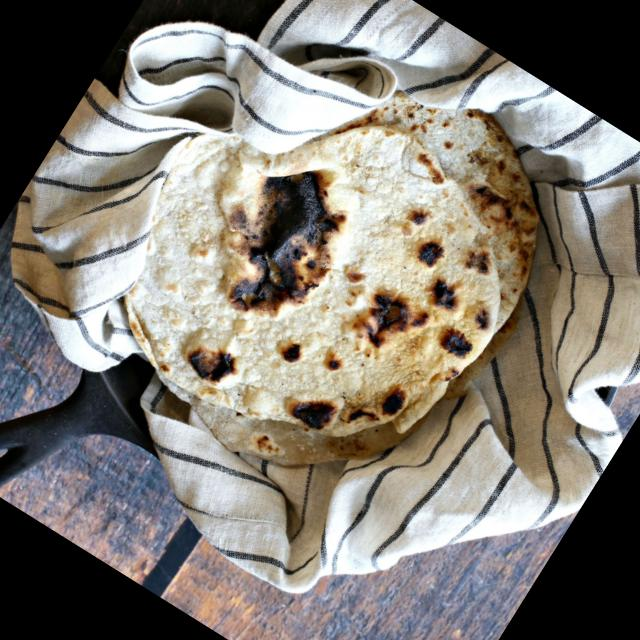roti: (121, 100, 537, 465)
